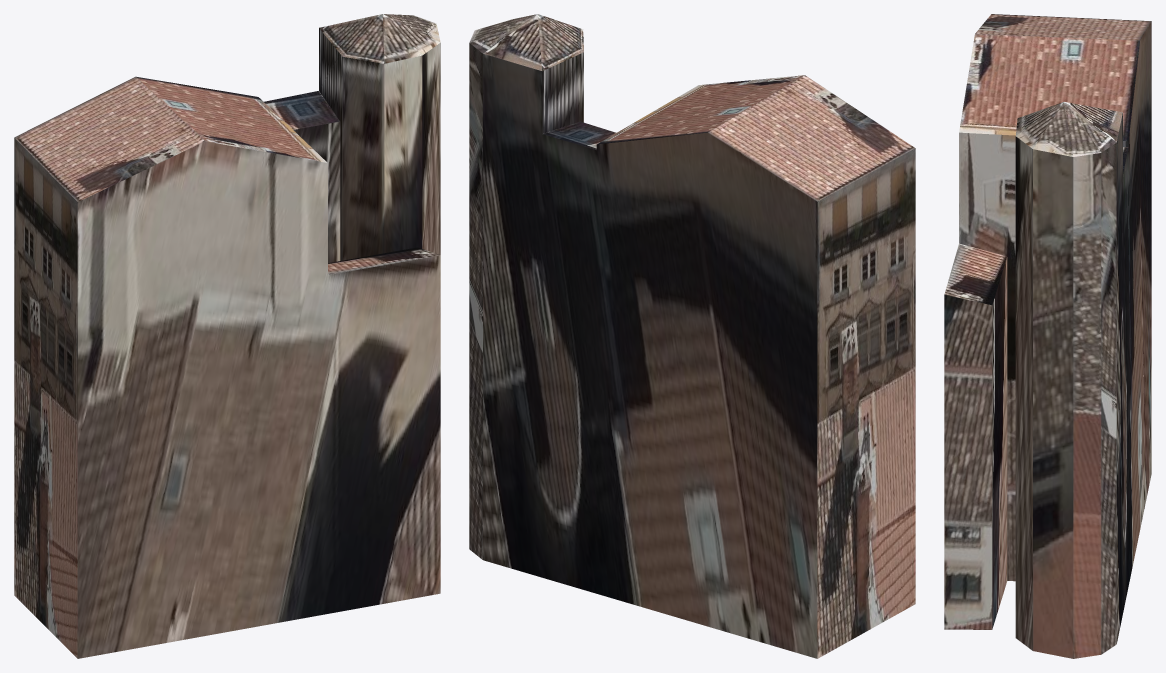
3 renders of one model, left to right at view 1: azimuth 30°, elevation 25°; view 2: azimuth 150°, elevation 25°; view 3: azimuth 270°, elevation 25°, orthographic.
Visible parts, largest first — view 1: Z_UP; view 2: Z_UP; view 3: Z_UP.
Boxes of the visible parts, bbox=[...] form: Z_UP: bbox=[14, 14, 440, 658]; Z_UP: bbox=[469, 14, 915, 658]; Z_UP: bbox=[944, 14, 1151, 658].
Bounding box in the file's own units: 20.12 × 25.68 × 9.12.
Materials: 2 (1 with a texture image).
